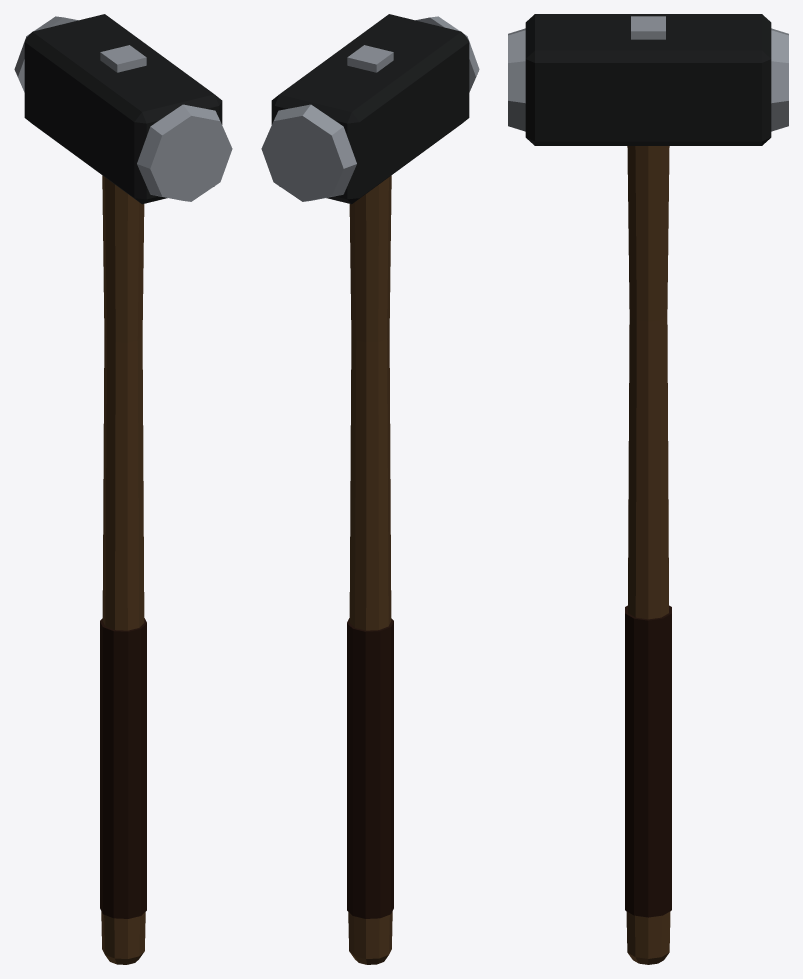
The model's file is Sledgehammer.obj.
3 views of the same model, side by side, from view 1: azimuth 30°, elevation 25°; view 2: azimuth 150°, elevation 25°; view 3: azimuth 270°, elevation 25° (orthographic). The views are drawn at different scales.
Parts seen in each view (by area): view 1: Ash, Gunmetal, Leather, Steel; view 2: Ash, Gunmetal, Leather, Steel; view 3: Gunmetal, Ash, Leather, Steel.
Boxes of the visible parts, x1,y1,x2,y2 form: Ash: [101, 175, 145, 964]; Gunmetal: [24, 14, 222, 204]; Leather: [100, 618, 146, 918]; Steel: [14, 16, 232, 201]; Ash: [348, 175, 392, 964]; Gunmetal: [271, 14, 469, 204]; Leather: [347, 618, 393, 918]; Steel: [261, 16, 479, 201]; Gunmetal: [525, 14, 771, 145]; Ash: [626, 146, 670, 964]; Leather: [625, 605, 671, 917]; Steel: [508, 16, 788, 131].
Size of the model in its own units: 0.094 by 0.881 by 0.24.
